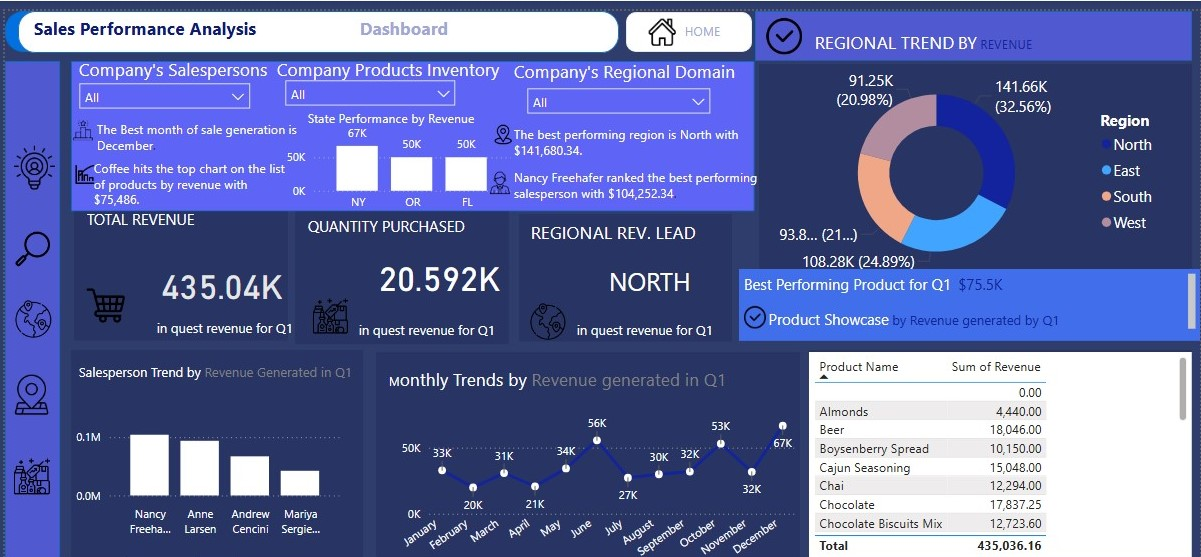

The dashboard page shown, as its layout file describes it:
{"tool":"powerbi","page":{"name":"Dashboard","canvas":[1280,720],"ordinal":0},"visuals":[{"type":"shape","box":[0,0,650.4,43.9],"z":0},{"type":"shape","box":[13.9,0,643.7,45],"z":1000},{"type":"shape","box":[0,53.3,59.1,608.3],"z":2000},{"type":"shape","box":[70.8,53.7,732.1,161.1],"z":3000},{"type":"shape","box":[74.4,214.8,229.4,139.1],"z":4000},{"type":"shape","box":[311.2,214.8,229.4,142.8],"z":5000},{"type":"shape","box":[550.3,217.2,228.2,136.7],"z":6000},{"type":"shape","box":[70.7,363.1,312.8,260.3],"z":7000},{"type":"shape","box":[397.4,365.3,454.2,253.9],"z":8000},{"type":"image","box":[82.5,286,51.4,60],"z":9000},{"type":"cardVisual","fields":{"Data":["Sum(Data (2).Revenue)"]},"box":[142.5,241,259.2,99.6],"z":10000},{"type":"textbox","box":[82.5,206.7,301,48.2],"z":11000},{"type":"textbox","box":[319.2,214.2,213.2,40.7],"z":12000},{"type":"image","box":[323.5,296.7,50.3,60],"z":13000},{"type":"cardVisual","fields":{"Data":["Sum(Data (2).Quantity)"]},"box":[383.5,207.8,171.4,150],"z":14000},{"type":"textbox","box":[157.5,324.9,198.3,29.5],"z":15000},{"type":"textbox","box":[558.1,219.6,412.4,46.1],"z":16000},{"type":"image","box":[557,303.1,49.3,60],"z":17000},{"type":"textbox","box":[641.6,265.6,138.2,60],"z":18000},{"type":"textbox","box":[374.2,326.3,208.2,30.9],"z":19000},{"type":"textbox","box":[607.6,326.3,192.7,39.4],"z":20000},{"type":"shape","box":[807.4,56.3,464.2,241.9],"z":21000},{"type":"donutChart","fields":{"Category":["Data (2).Region"],"Y":["Sum(Data (2).Revenue)"]},"box":[817.3,55.7,433.8,235.6],"z":22000},{"type":"shape","box":[803.2,0,468.4,53.5],"z":23000},{"type":"textbox","box":[862,15.9,301.3,37.5],"z":24000},{"type":"areaChart","fields":{"Y":["Sum(Data (2).Revenue)"],"Category":["Data (2).Order Date.Variation.Date Hierarchy.Month"]},"box":[406.3,411.2,445.4,195.2],"z":25000},{"type":"shape","box":[861.5,363.6,410,252.6],"z":26000},{"type":"image","box":[5.4,299.9,50.3,60],"z":27000},{"type":"image","box":[3.7,468.6,51.2,61],"z":28000},{"type":"tableEx","fields":{"Values":["Data (2).Product Name","Sum(Data (2).Revenue)"]},"box":[861.5,364.8,410,220.9],"z":29000},{"type":"textbox","box":[788.3,299,205,34.2],"z":30000},{"type":"textbox","box":[786.2,276.4,493.8,77.1],"z":31000},{"type":"shape","box":[665.2,1.1,135,42.8],"z":32000},{"type":"textbox","box":[406.3,377,411.2,41.5],"z":33000},{"type":"clusteredColumnChart","fields":{"Y":["Sum(Data (2).Revenue)"],"Category":["Data (2).Salesperson"]},"box":[70.8,411.2,294.1,158.6],"z":34000},{"type":"textbox","box":[74.4,372.2,323.4,41.5],"z":35000},{"type":"image","box":[807.6,0,54.6,53.6],"z":36000},{"type":"image","box":[779.7,309.9,46.4,36.6],"z":37000},{"type":"image","box":[684.5,3.2,38.6,38.6],"z":38000},{"type":"textbox","box":[25.6,1.2,274.5,41.5],"z":39000},{"type":"textbox","box":[374.6,1.2,300.2,40.3],"z":40000},{"type":"slicer","fields":{"Values":["Data (2).Salesperson"]},"box":[69.6,67.1,202.6,61],"z":41000},{"type":"textbox","box":[723,7.5,77.1,31.1],"z":42000},{"type":"textbox","box":[74.4,45.1,233.1,42.7],"z":43000},{"type":"slicer","fields":{"Values":["Data (2).Product Name"]},"box":[290.3,64.3,202.4,46.1],"z":44000},{"type":"textbox","box":[285.5,45.1,268.4,42.7],"z":45000},{"type":"slicer","fields":{"Values":["Data (2).Region"]},"box":[549.1,73.2,216,41.5],"z":46000},{"type":"textbox","box":[539.3,47.6,257.5,39],"z":47000},{"type":"columnChart","fields":{"Category":["Data (2).Ship State"],"Y":["Sum(Data (2).Revenue)"]},"box":[296.5,109.8,250.1,112.3],"z":48000},{"type":"image","box":[3.2,231.4,52.5,47.1],"z":49000},{"type":"image","box":[0,382.4,57.8,56.8],"z":50000},{"type":"image","box":[0,139.2,63.2,56.8],"z":51000},{"type":"textbox","box":[319.2,100.7,199.2,27.8],"z":52000},{"type":"textbox","box":[92.7,112.3,227,46.4],"z":53000},{"type":"textbox","box":[90.3,153.7,217.2,74.4],"z":54000},{"type":"textbox","box":[539.8,117.8,299.9,47.1],"z":55000},{"type":"textbox","box":[539.3,163.5,300.2,56.1],"z":56000},{"type":"image","box":[391.7,117.1,283.1,31],"z":57000},{"type":"image","box":[242.8,167.2,574.7,34.2],"z":58000},{"type":"image","box":[3.7,112.3,161.1,30.5],"z":59000},{"type":"image","box":[0,158.6,170.8,32.9],"z":60000}]}

Visuals, with their boxes on the page's 1280x720 design canvas (x1, y1, x2, y2). These are canvas units, not pixel positions in the 1201x557 screenshot, which may show the page scaled, cropped or inside an application window:
shape: region(0, 0, 650, 44)
shape: region(14, 0, 658, 45)
shape: region(0, 53, 59, 662)
shape: region(71, 54, 803, 215)
shape: region(74, 215, 304, 354)
shape: region(311, 215, 541, 358)
shape: region(550, 217, 778, 354)
shape: region(71, 363, 384, 623)
shape: region(397, 365, 852, 619)
image: region(82, 286, 134, 346)
cardVisual - Sum(Data (2).Revenue): region(142, 241, 402, 341)
textbox: region(82, 207, 384, 255)
textbox: region(319, 214, 532, 255)
image: region(324, 297, 374, 357)
cardVisual - Sum(Data (2).Quantity): region(384, 208, 555, 358)
textbox: region(158, 325, 356, 354)
textbox: region(558, 220, 970, 266)
image: region(557, 303, 606, 363)
textbox: region(642, 266, 780, 326)
textbox: region(374, 326, 582, 357)
textbox: region(608, 326, 800, 366)
shape: region(807, 56, 1272, 298)
donutChart - Data (2).Region x Sum(Data (2).Revenue): region(817, 56, 1251, 291)
shape: region(803, 0, 1272, 54)
textbox: region(862, 16, 1163, 53)
areaChart - Sum(Data (2).Revenue) x Data (2).Order Date.Variation.Date Hierarchy.Month: region(406, 411, 852, 606)
shape: region(862, 364, 1272, 616)
image: region(5, 300, 56, 360)
image: region(4, 469, 55, 530)
tableEx - Data (2).Product Name x Sum(Data (2).Revenue): region(862, 365, 1272, 586)
textbox: region(788, 299, 993, 333)
textbox: region(786, 276, 1280, 354)
shape: region(665, 1, 800, 44)
textbox: region(406, 377, 818, 418)
clusteredColumnChart - Sum(Data (2).Revenue) x Data (2).Salesperson: region(71, 411, 365, 570)
textbox: region(74, 372, 398, 414)
image: region(808, 0, 862, 54)
image: region(780, 310, 826, 346)
image: region(684, 3, 723, 42)
textbox: region(26, 1, 300, 43)
textbox: region(375, 1, 675, 42)
slicer - Data (2).Salesperson: region(70, 67, 272, 128)
textbox: region(723, 8, 800, 39)
textbox: region(74, 45, 308, 88)
slicer - Data (2).Product Name: region(290, 64, 493, 110)
textbox: region(286, 45, 554, 88)
slicer - Data (2).Region: region(549, 73, 765, 115)
textbox: region(539, 48, 797, 87)
columnChart - Data (2).Ship State x Sum(Data (2).Revenue): region(296, 110, 547, 222)
image: region(3, 231, 56, 278)
image: region(0, 382, 58, 439)
image: region(0, 139, 63, 196)
textbox: region(319, 101, 518, 128)
textbox: region(93, 112, 320, 159)
textbox: region(90, 154, 308, 228)
textbox: region(540, 118, 840, 165)
textbox: region(539, 164, 840, 220)
image: region(392, 117, 675, 148)
image: region(243, 167, 818, 201)
image: region(4, 112, 165, 143)
image: region(0, 159, 171, 192)
